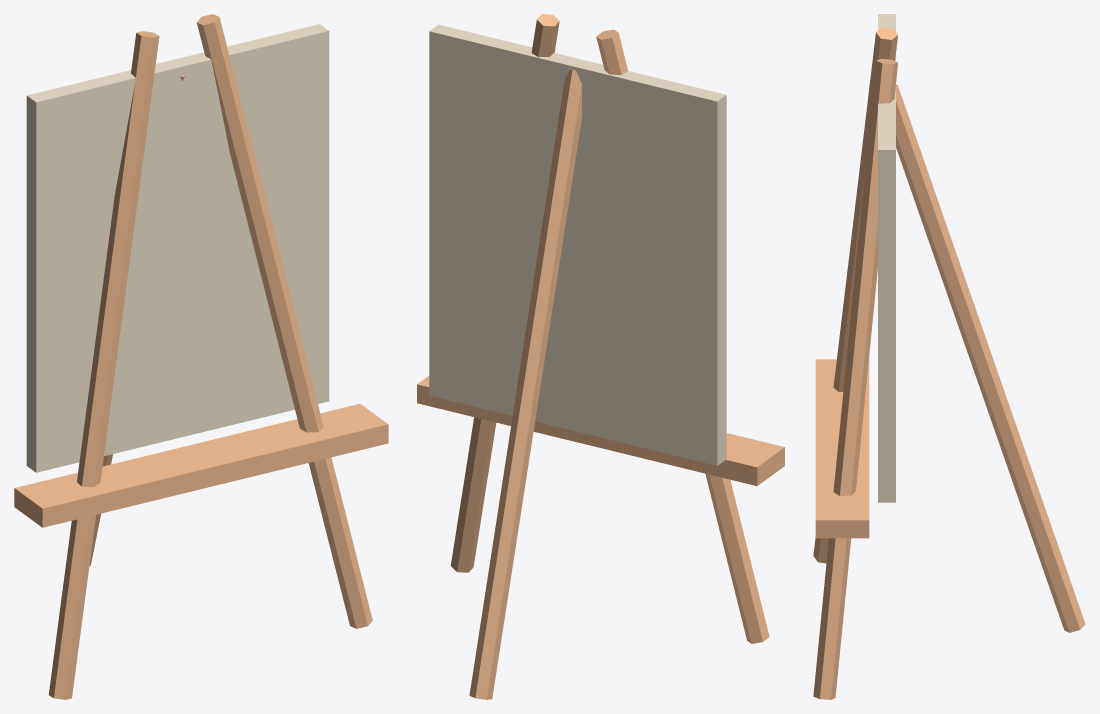
The picture shows the model from 3 angles, left to right: view 1: azimuth 30°, elevation 25°; view 2: azimuth 150°, elevation 25°; view 3: azimuth 270°, elevation 25°; orthographic projection. The views are drawn at different scales.
Visible parts, largest first — view 1: Canvas, Canvas rest, Side, Side.001; view 2: Canvas, Rear leg, Canvas rest, Side, Side.001; view 3: Rear leg, Side.001, Canvas, Canvas rest, Side.
Boxes of the visible parts, x1,y1,x2,y2 form: Canvas: (26, 24, 329, 472); Canvas rest: (14, 403, 388, 527); Side: (48, 31, 159, 699); Side.001: (196, 14, 372, 628); Canvas: (429, 24, 726, 465); Rear leg: (469, 69, 581, 699); Canvas rest: (417, 376, 784, 485); Side: (596, 29, 769, 643); Side.001: (450, 14, 559, 572); Rear leg: (896, 84, 1085, 632); Side.001: (813, 59, 897, 699); Canvas: (878, 14, 895, 502); Canvas rest: (815, 359, 869, 538); Side: (813, 27, 897, 563).
Bounding box in the file's own units: 0.85 × 1.44 × 0.6086.
1 material, 1 textured.
